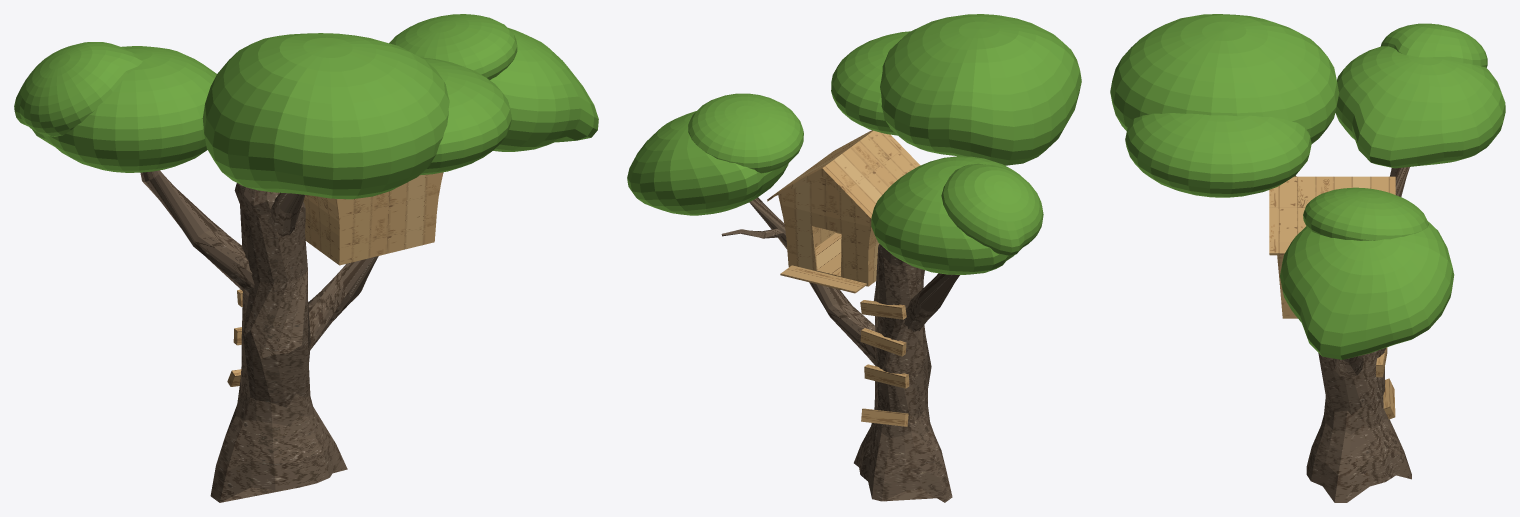
The model's file is treehouseFINFinal.fbx.
3 renders of one model, left to right at view 1: azimuth 30°, elevation 25°; view 2: azimuth 150°, elevation 25°; view 3: azimuth 270°, elevation 25°, orthographic. The views are drawn at different scales.
Visible parts, largest first — view 1: tree body; view 2: tree body; view 3: tree body.
Boxes of the visible parts, bbox=[...] form: tree body: bbox=[14, 14, 598, 502]; tree body: bbox=[627, 14, 1081, 502]; tree body: bbox=[1110, 14, 1505, 502].
Bounding box in the file's own units: 1990 × 1484 × 1847.
